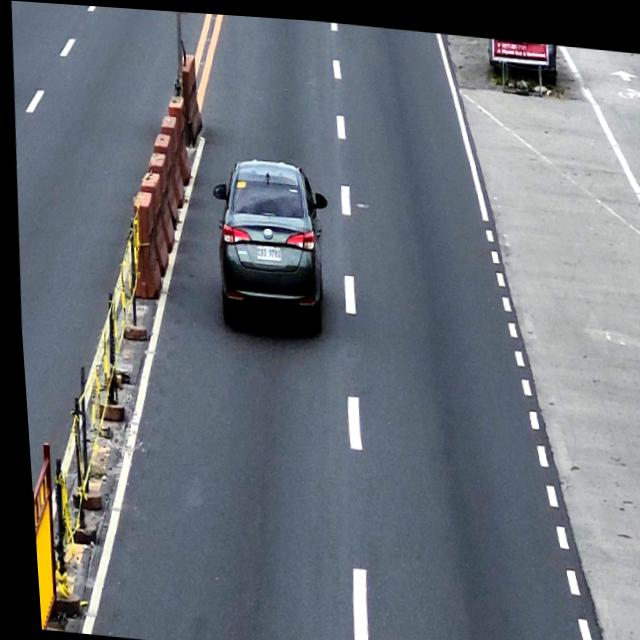Car: (203, 151, 333, 333)
License-Plate: (253, 242, 277, 258)
